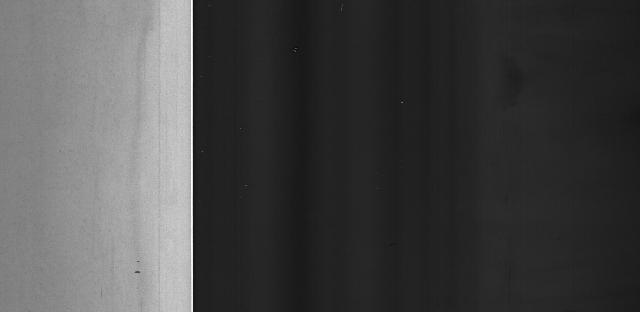inclusion: (132, 258, 146, 289)
